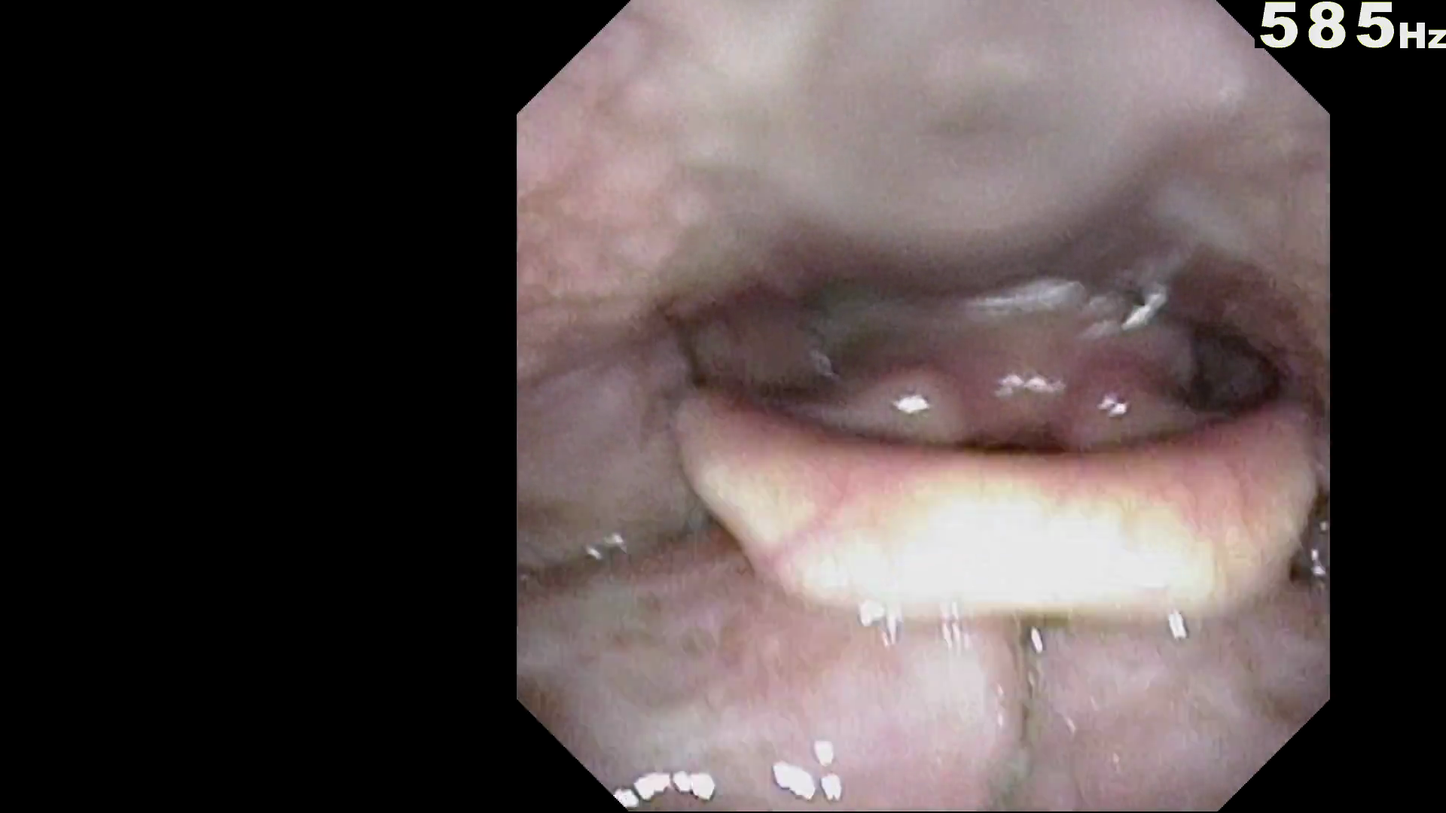epiglottis: (651, 357, 1322, 658)
trachea: (939, 423, 1068, 496)
